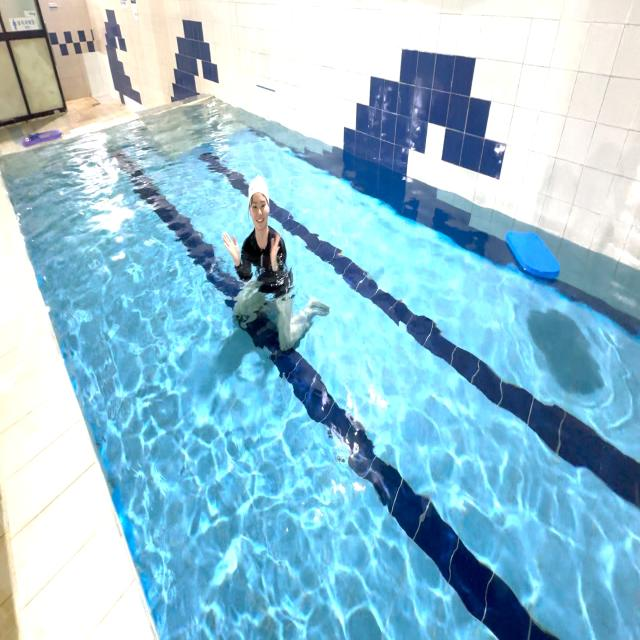Swimming: (211, 158, 332, 373)
